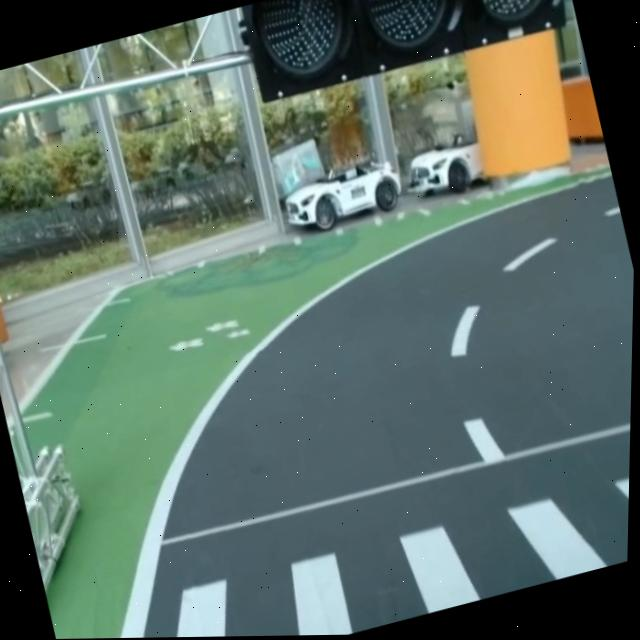traffic-light: (233, 0, 578, 108)
